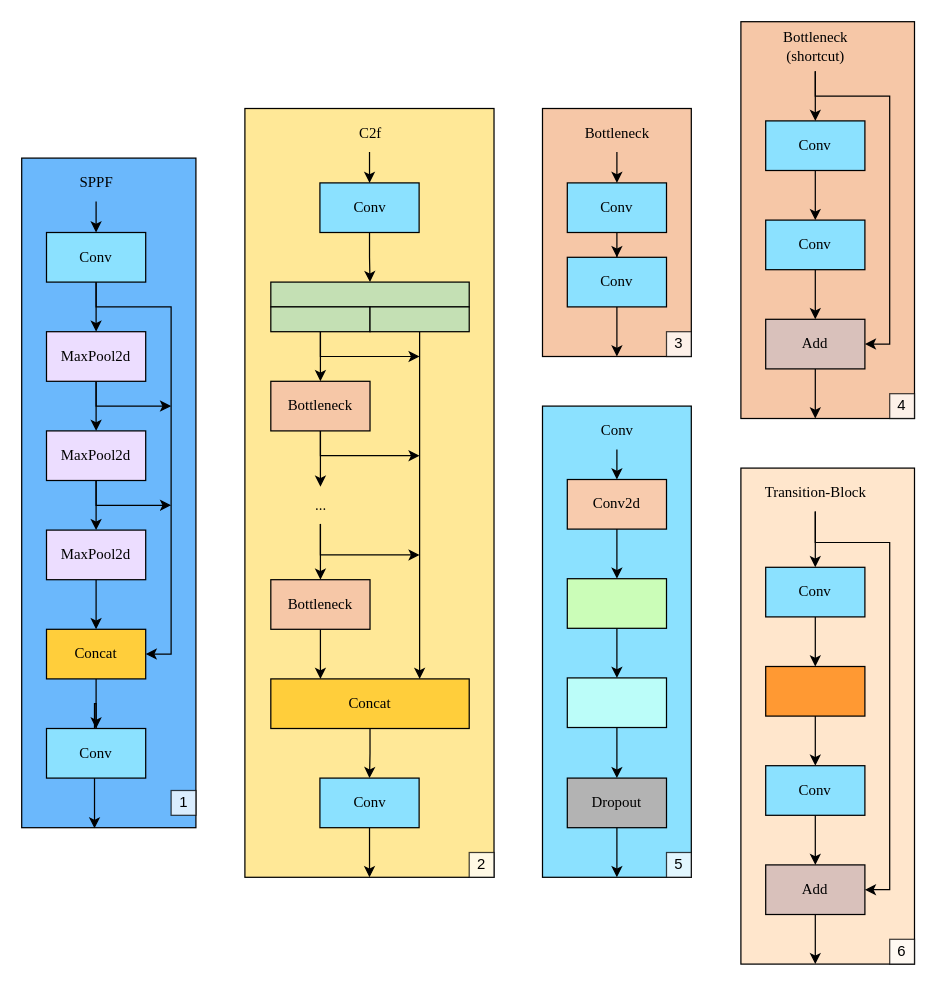
The diagram is 936 pixels wide and 996 high, and some of its shapes have lost their labels. Here are the shapes that lost their labels. From the top down, the centre of each, then its label:
At (369,294): "Split".
At (616,602): "BatchNorm2d".
At (616,702): "SiLU".
At (814,690): "Dense".
